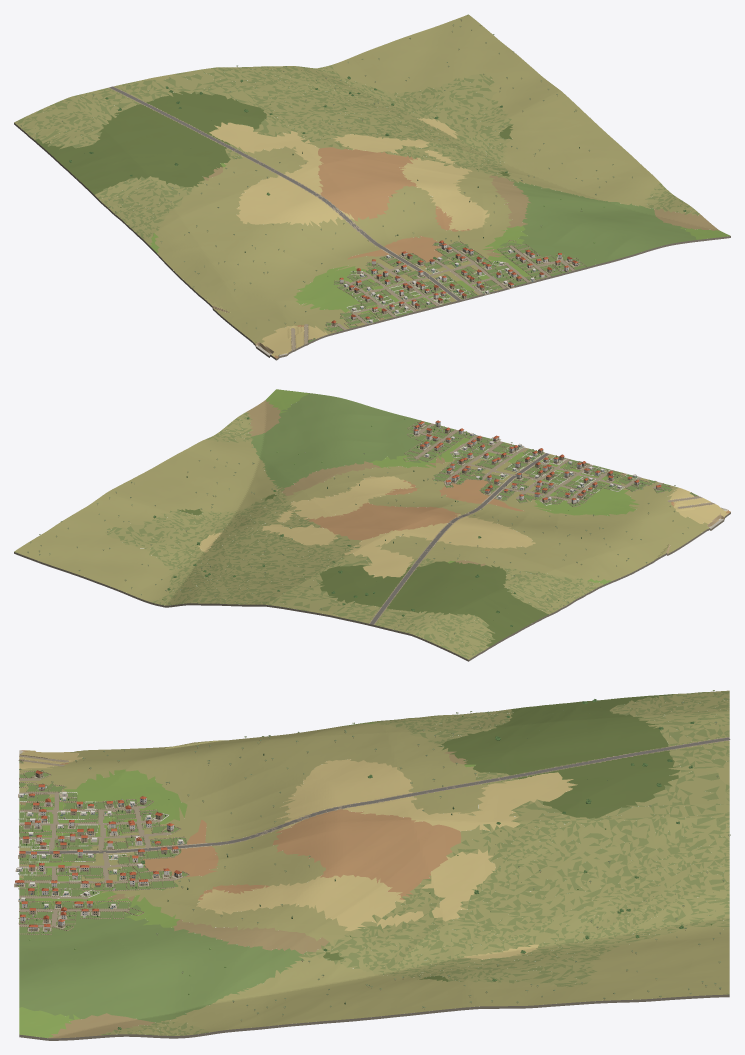
Rendered from parca_+0_+0-yakin.glb.
The picture shows the model from 3 angles, top to bottom: view 1: azimuth 30°, elevation 25°; view 2: azimuth 150°, elevation 25°; view 3: azimuth 270°, elevation 25°; orthographic projection. The views are drawn at different scales.
Visible parts, largest first — view 1: parca_+0_+0_arazi, parca_+0_+0_yapilar, parca_+0_+0_duvarlar, parca_+0_+0_yollar, parca_+0_+0_bitkiler; view 2: parca_+0_+0_arazi, parca_+0_+0_yapilar, parca_+0_+0_duvarlar, parca_+0_+0_yollar, parca_+0_+0_bitkiler; view 3: parca_+0_+0_arazi, parca_+0_+0_yapilar, parca_+0_+0_duvarlar, parca_+0_+0_yollar, parca_+0_+0_bitkiler.
Part boxes in pixels (<box>): parca_+0_+0_arazi: <box>14,14,730,360</box>; parca_+0_+0_yapilar: <box>331,240,578,326</box>; parca_+0_+0_duvarlar: <box>308,240,586,341</box>; parca_+0_+0_yollar: <box>109,86,574,349</box>; parca_+0_+0_bitkiler: <box>20,19,686,332</box>; parca_+0_+0_arazi: <box>14,389,730,661</box>; parca_+0_+0_yapilar: <box>412,420,661,504</box>; parca_+0_+0_duvarlar: <box>403,420,698,507</box>; parca_+0_+0_yollar: <box>370,423,714,624</box>; parca_+0_+0_bitkiler: <box>27,417,688,654</box>; parca_+0_+0_arazi: <box>19,690,729,1040</box>; parca_+0_+0_yapilar: <box>14,770,184,931</box>; parca_+0_+0_duvarlar: <box>18,760,189,934</box>; parca_+0_+0_yollar: <box>18,737,730,926</box>; parca_+0_+0_bitkiler: <box>17,690,730,1030</box>.
Bounding box in the file's own units: 1002 × 134 × 1009.
